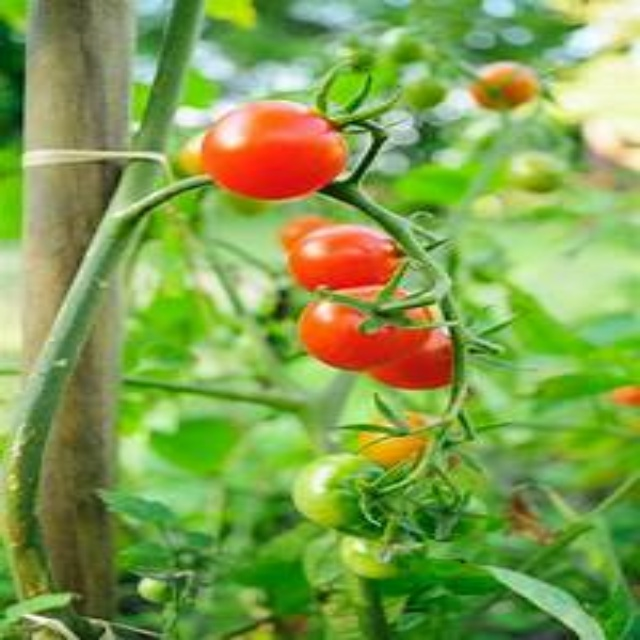tomato: (310, 291, 463, 392), (205, 105, 348, 208), (290, 444, 396, 535), (292, 226, 413, 298), (370, 417, 474, 482)
